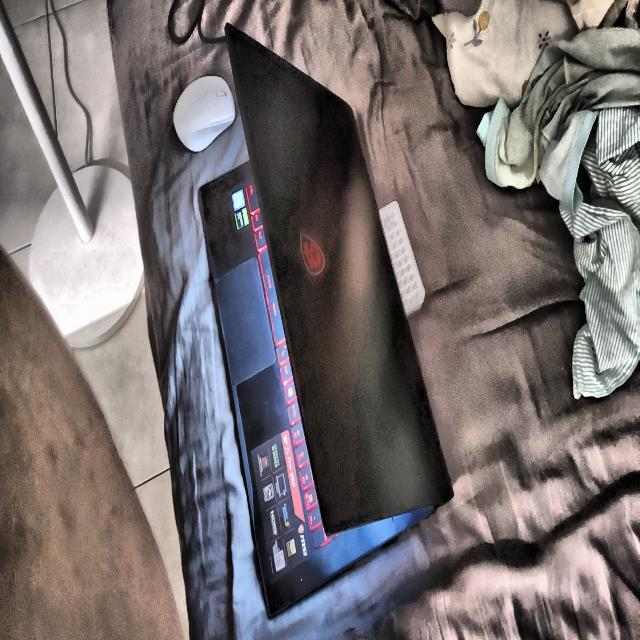laptop: (198, 23, 453, 618)
